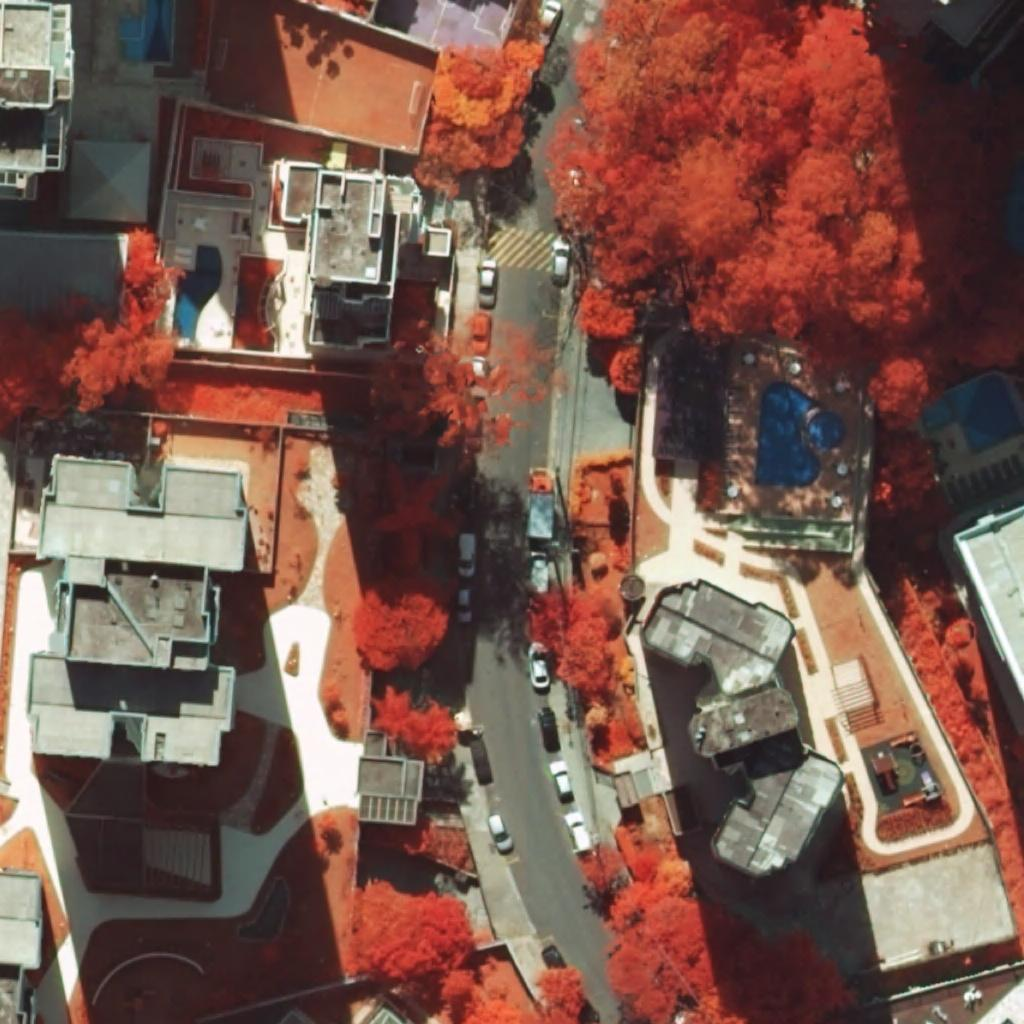pool: (920, 374, 1024, 456), (754, 382, 821, 486), (173, 245, 223, 342), (119, 0, 174, 61), (808, 412, 846, 448)
